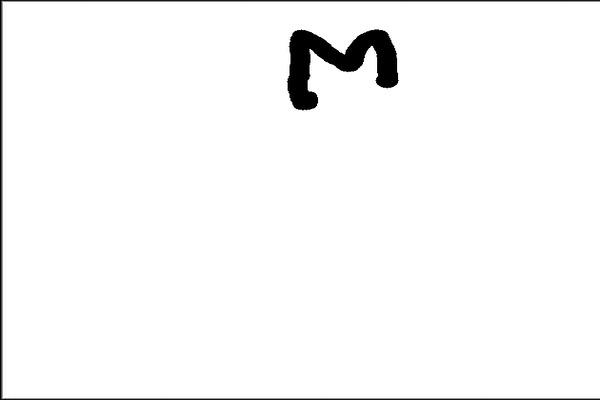M: (284, 21, 398, 110)
